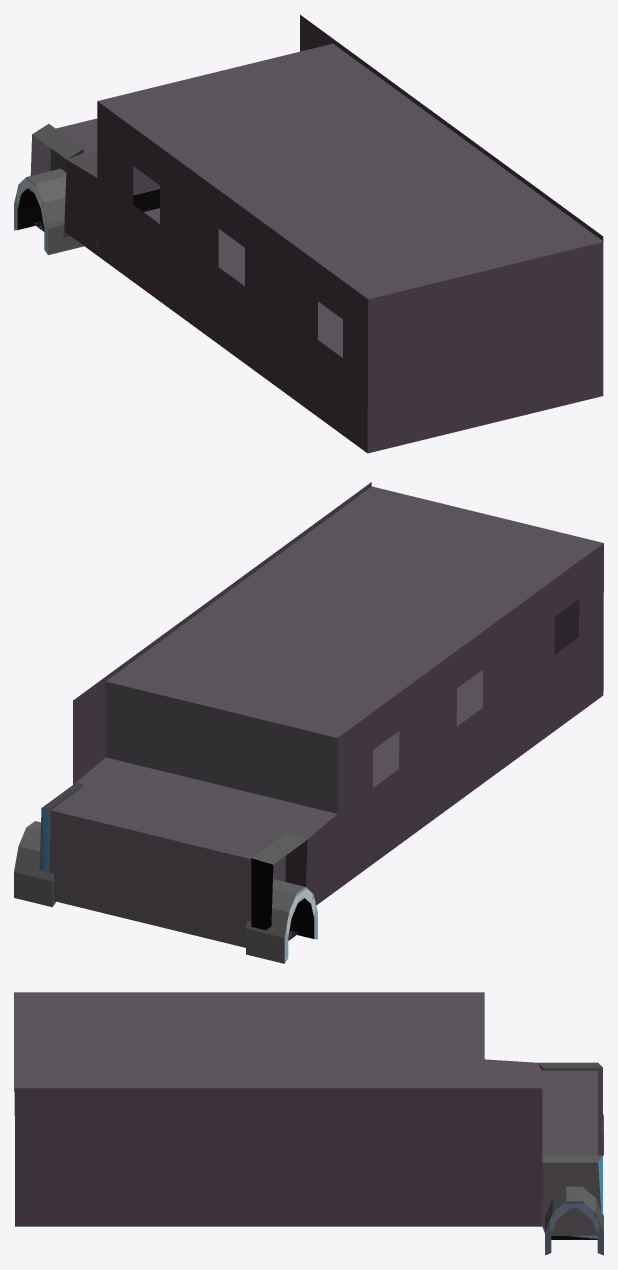
Rendered from Industry_terrain.gltf.
3 renders of one model, top to bottom at view 1: azimuth 30°, elevation 25°; view 2: azimuth 150°, elevation 25°; view 3: azimuth 270°, elevation 25°, orthographic. The views are drawn at different scales.
Parts seen in each view (by area): view 1: plane, tube; view 2: plane, tube (×2); view 3: plane, tube.
Part boxes in pixels (left/top/right/bottom): plane: left=30, top=15, right=603, bottom=453; tube: left=14, top=168, right=83, bottom=254; plane: left=39, top=482, right=603, bottom=947; tube (×2): left=14, top=821, right=317, bottom=963; plane: left=14, top=992, right=602, bottom=1239; tube: left=545, top=1186, right=603, bottom=1255.
Bounding box in the file's own units: 3.5 × 2.2 × 7.48.
1 material, 1 textured.
